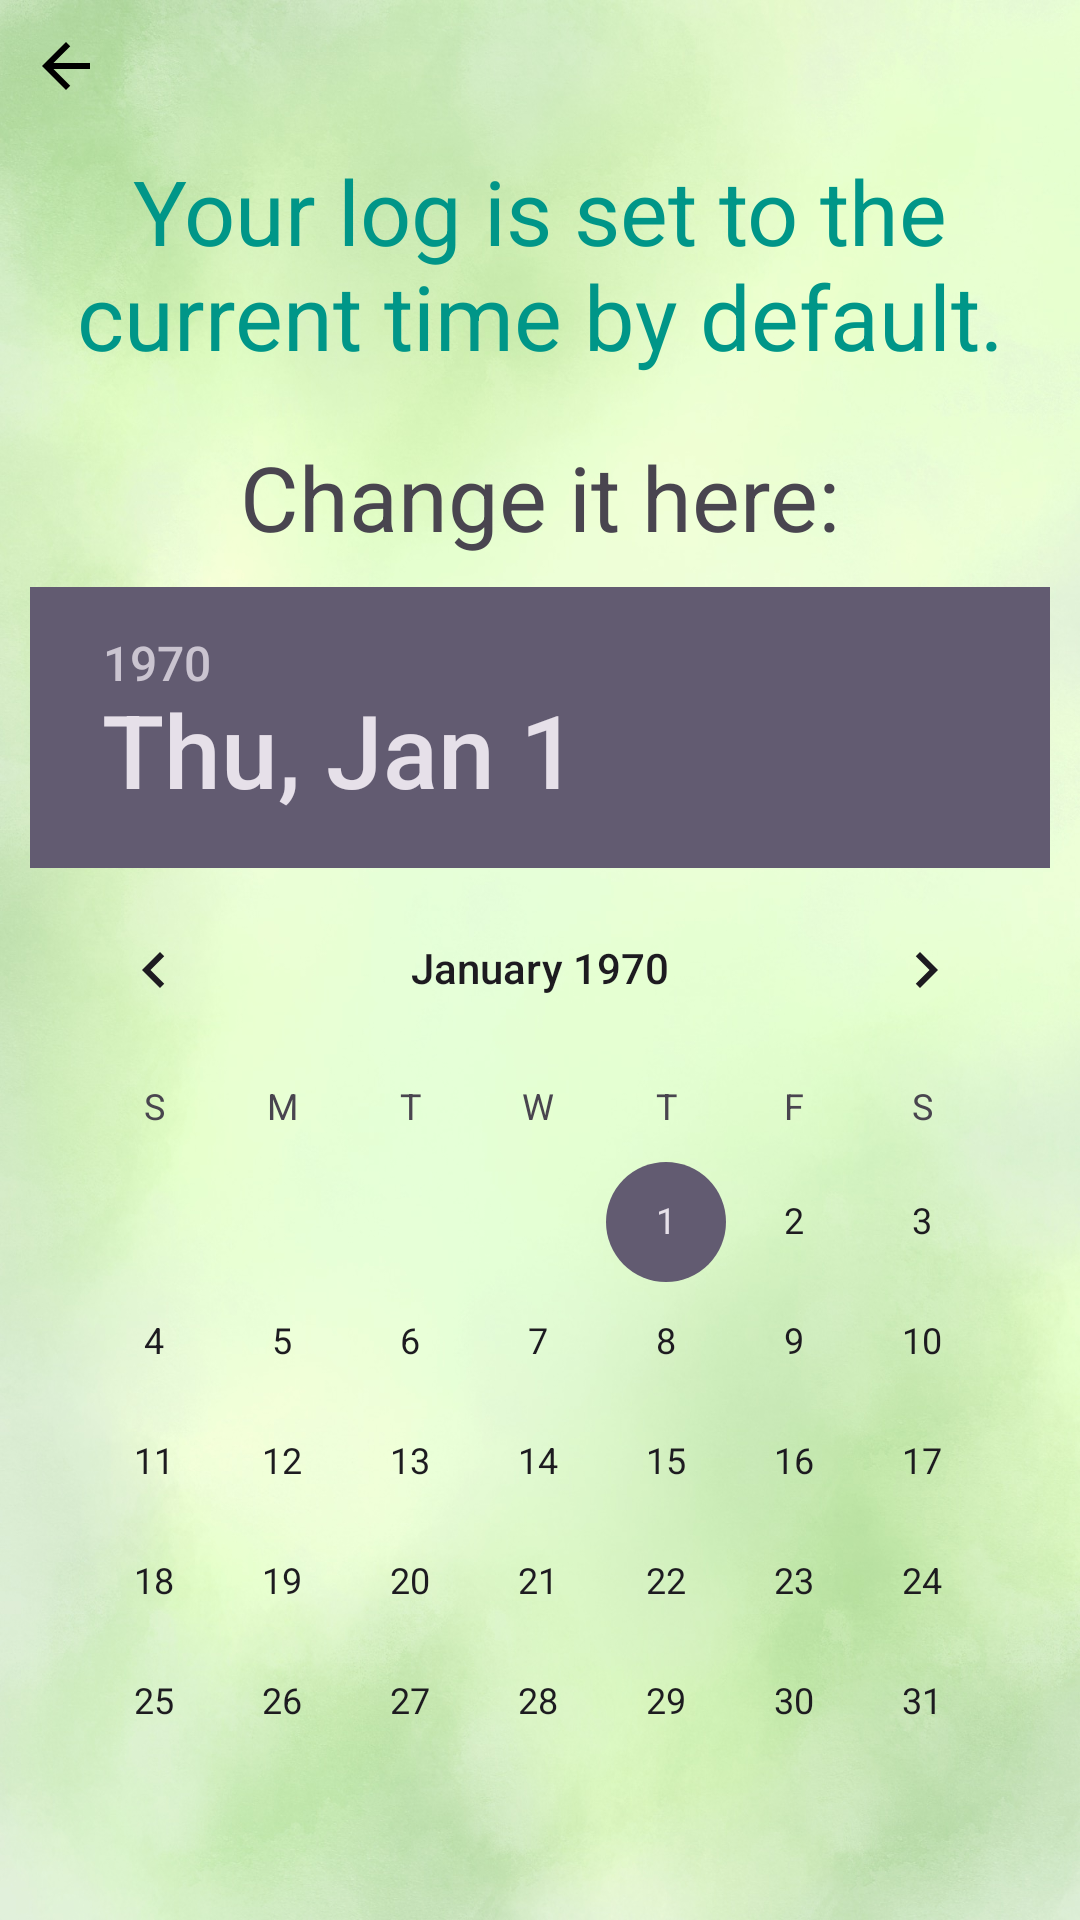

Icon bounding boxes for this 1080 x 1920 phone screenshot, format box=[x1, y1, x2, y2]:
arrow back: box=[42, 42, 90, 90]
